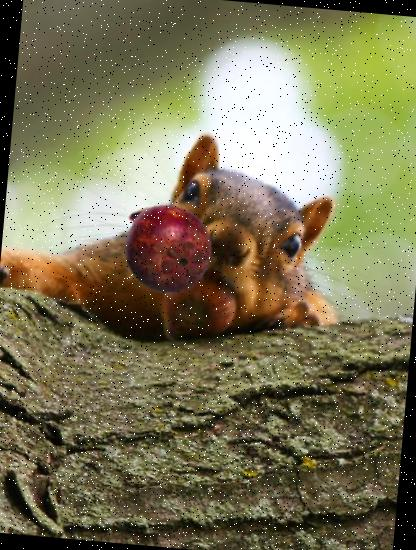Mangostan: (118, 198, 219, 300)
